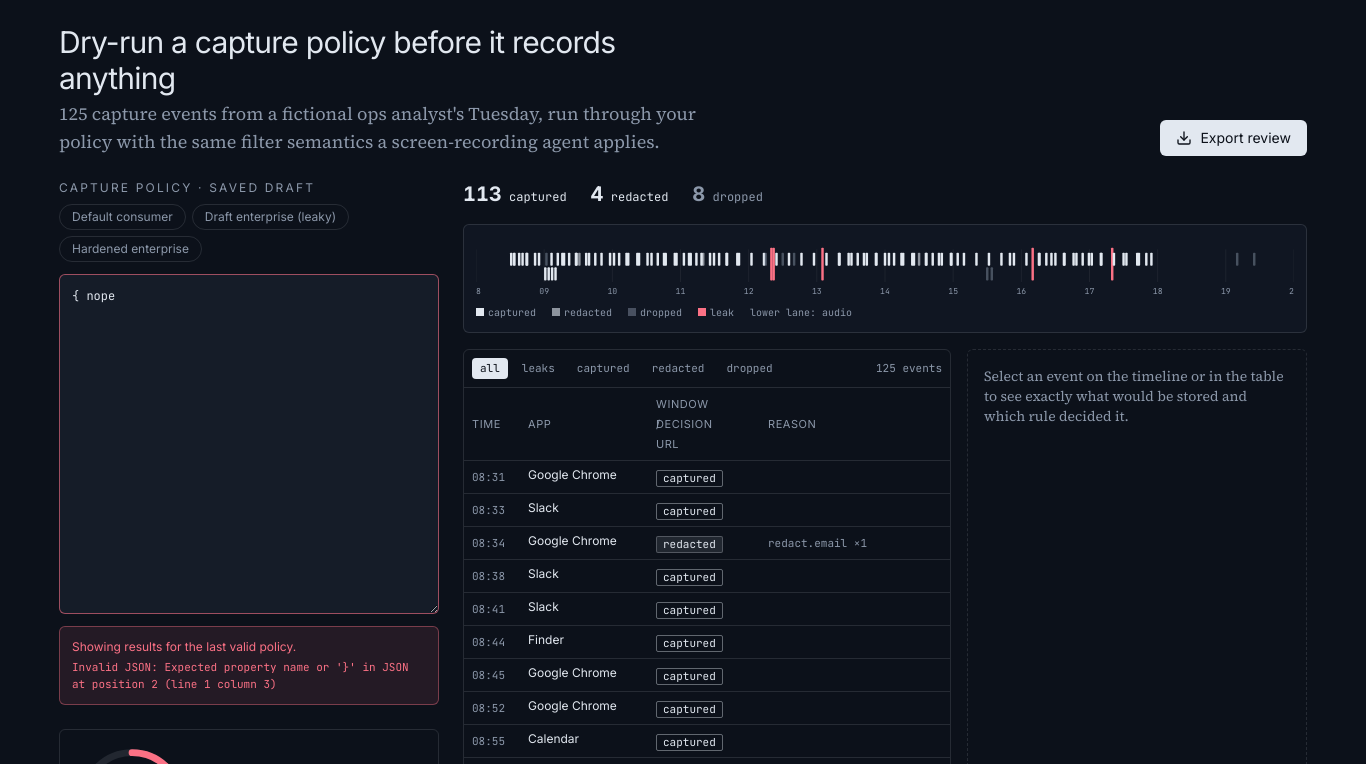
DryRunWorkspace › switching presets updates the leak count
The image size is (1366, 764).
Step 1. Click the button "Draft enterprise (leaky)" → (270, 217), box [192,204,349,230]
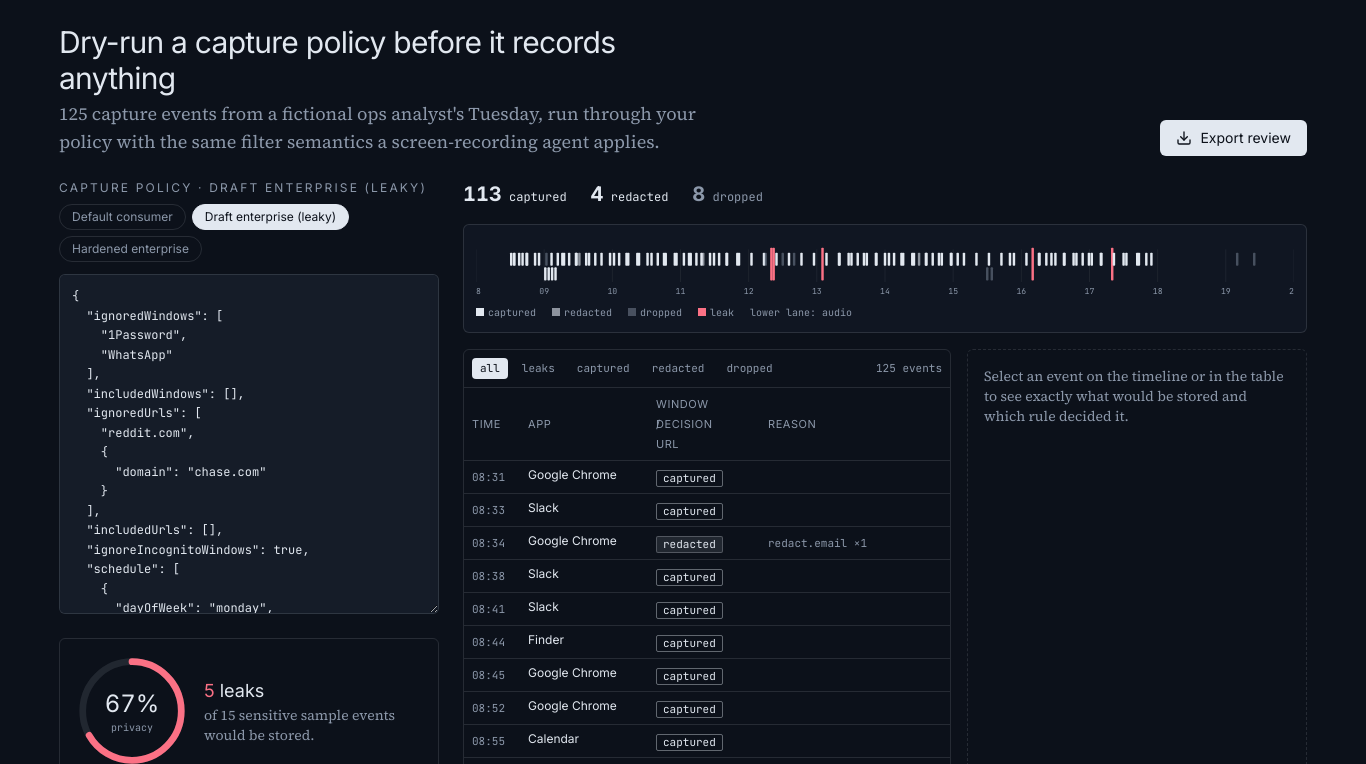
Expected: the text with test id "leak-count" reads "5", [204,680,215,701]
Step 2. Click the button "Hardened enterprise" → (130, 249), box [59,236,202,262]
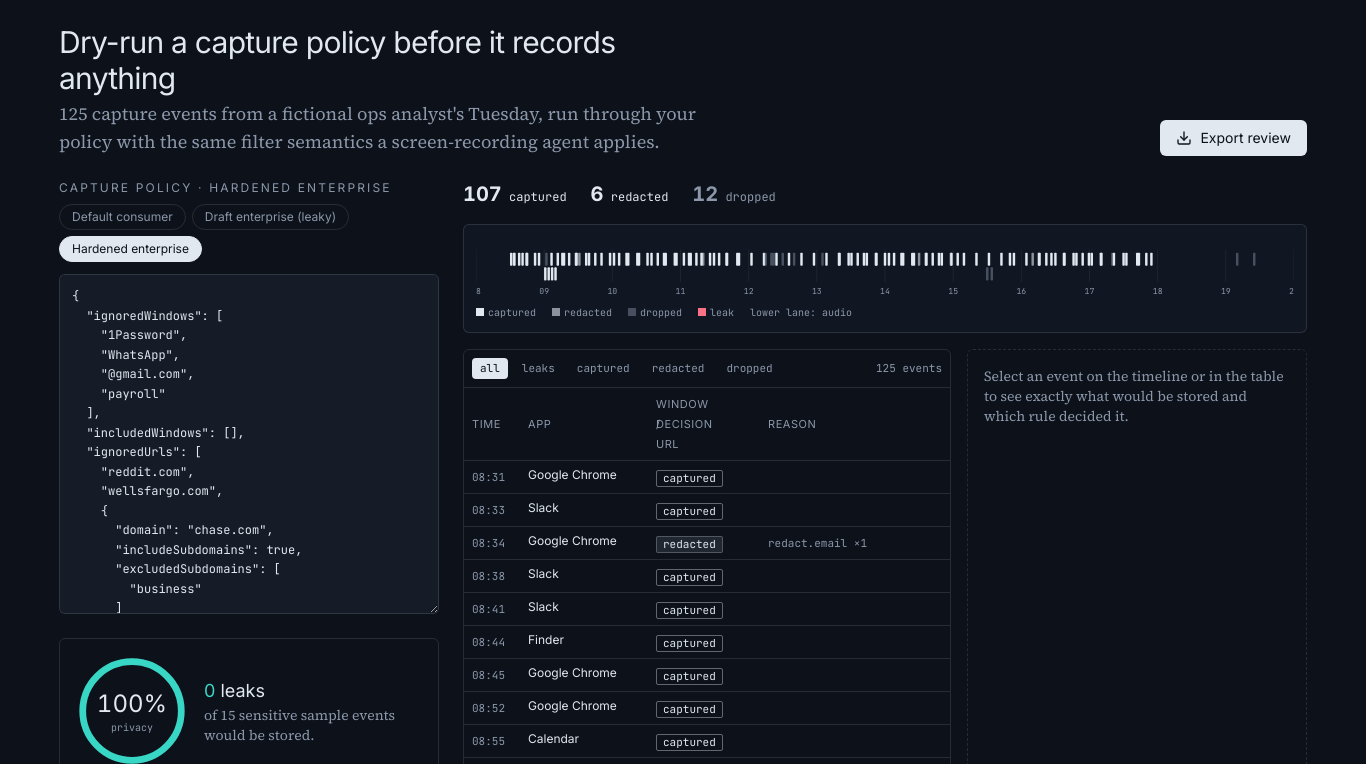
Result: the text with test id "leak-count" reads "0" at [204,680,215,701]
Result: the text with test id "privacy-score" reads "100%" at [97,688,167,720]
